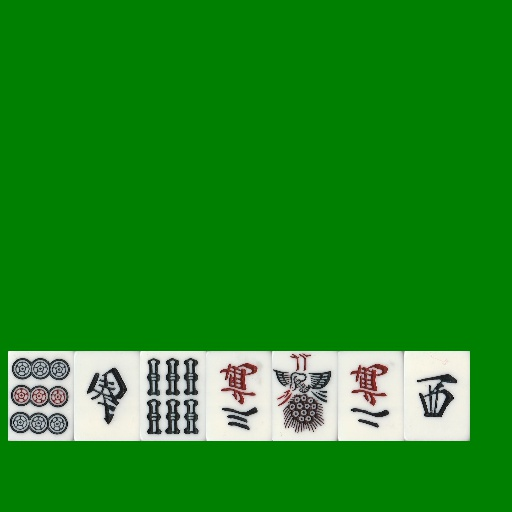1s: (272, 351, 338, 441)
2m: (338, 351, 404, 441)
3m: (206, 351, 272, 441)
6s: (140, 351, 206, 441)
9p: (8, 351, 74, 441)
south: (74, 351, 140, 441)
west: (404, 351, 470, 441)
